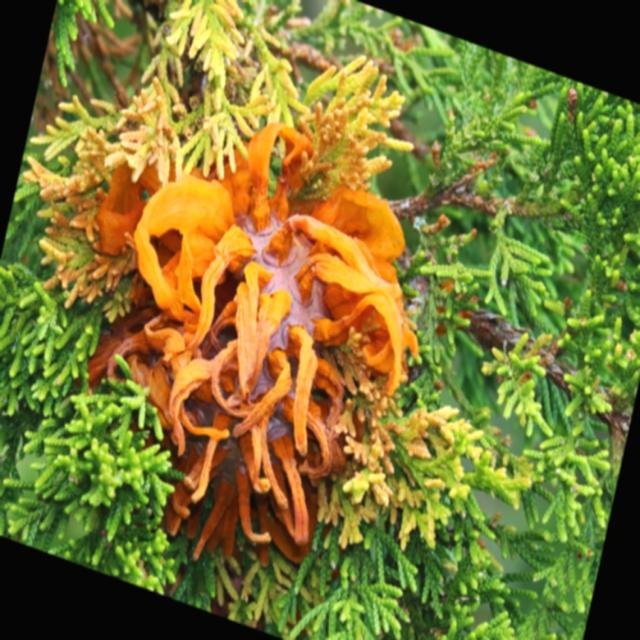Gymnosporangium_Rusts: (22, 3, 423, 570)
